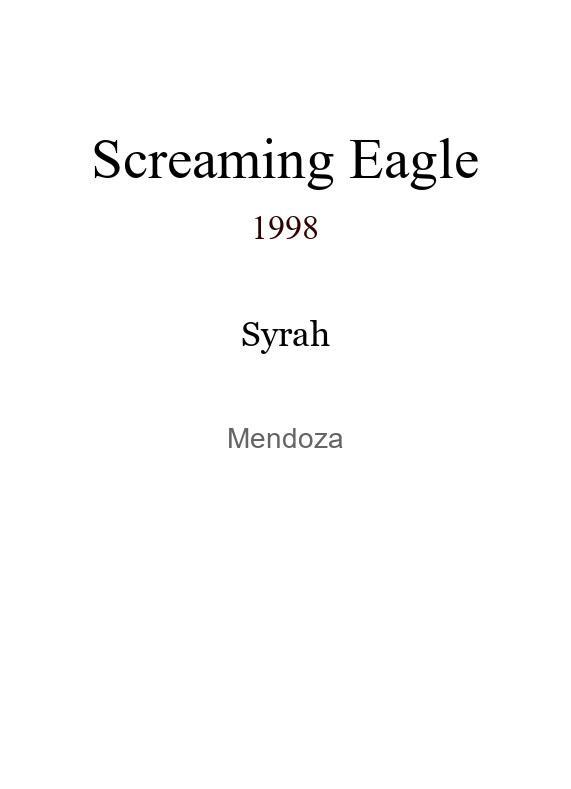brand: (91, 127, 479, 179)
region: (227, 422, 344, 442)
variety: (241, 313, 330, 347)
vintage: (251, 208, 319, 231)
